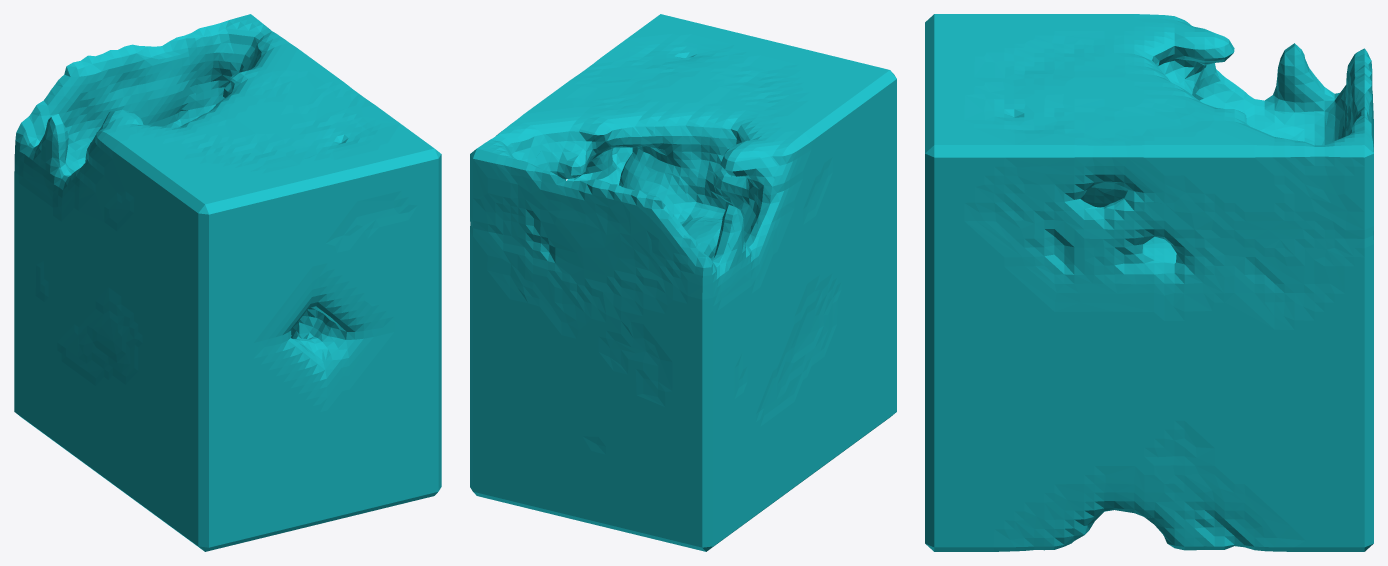
3 views of the same model, side by side, from view 1: azimuth 30°, elevation 25°; view 2: azimuth 150°, elevation 25°; view 3: azimuth 270°, elevation 25° (orthographic). The views are drawn at different scales.
Parts seen in each view (by area): view 1: Liquid_Domain; view 2: Liquid_Domain; view 3: Liquid_Domain.
Boxes of the visible parts, bbox=[...] form: Liquid_Domain: bbox=[14, 14, 441, 551]; Liquid_Domain: bbox=[470, 14, 896, 551]; Liquid_Domain: bbox=[925, 14, 1373, 551].
Size of the model in its own units: 79.09 by 108 by 108.
